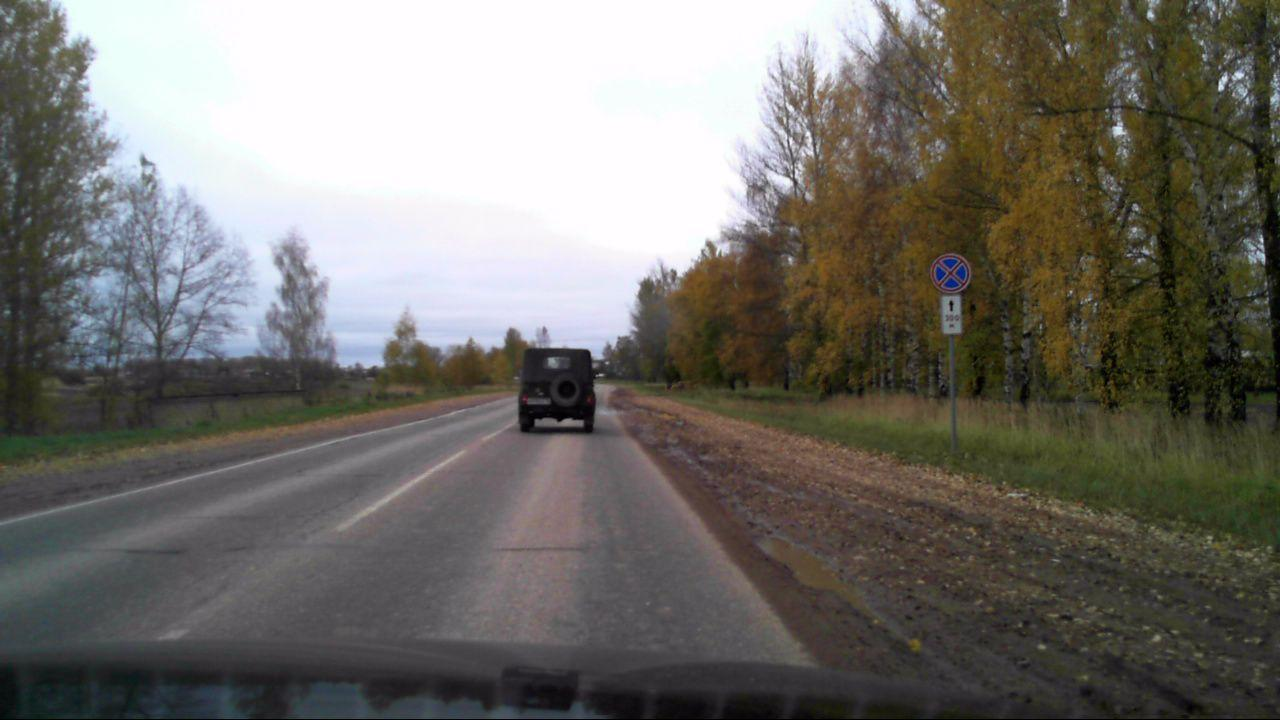3_27: (930, 252, 972, 294)
8_2_2: (941, 295, 962, 334)
